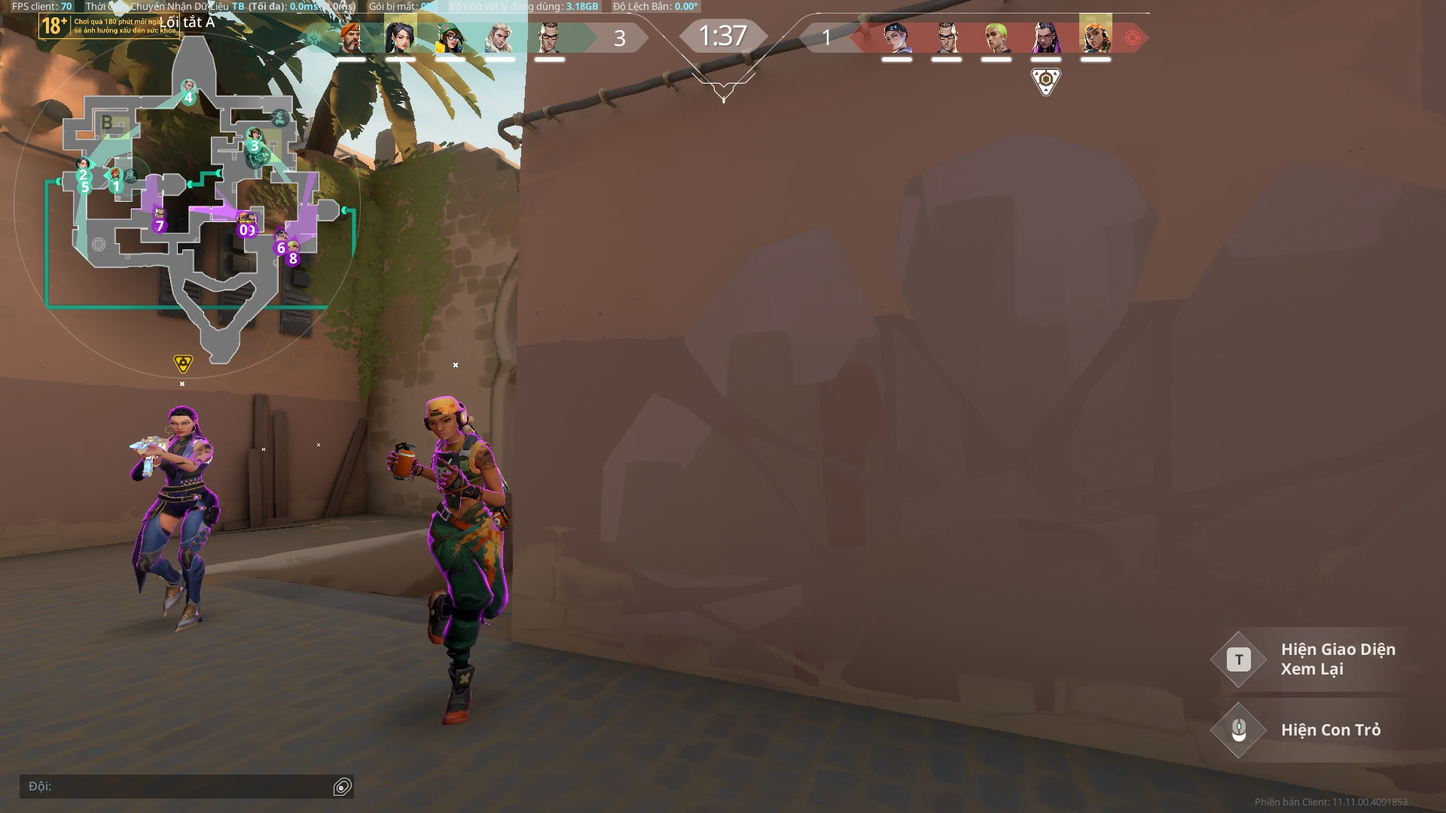body: (430, 439, 505, 509), (156, 435, 219, 496)
head: (423, 397, 465, 437), (168, 402, 201, 437)
